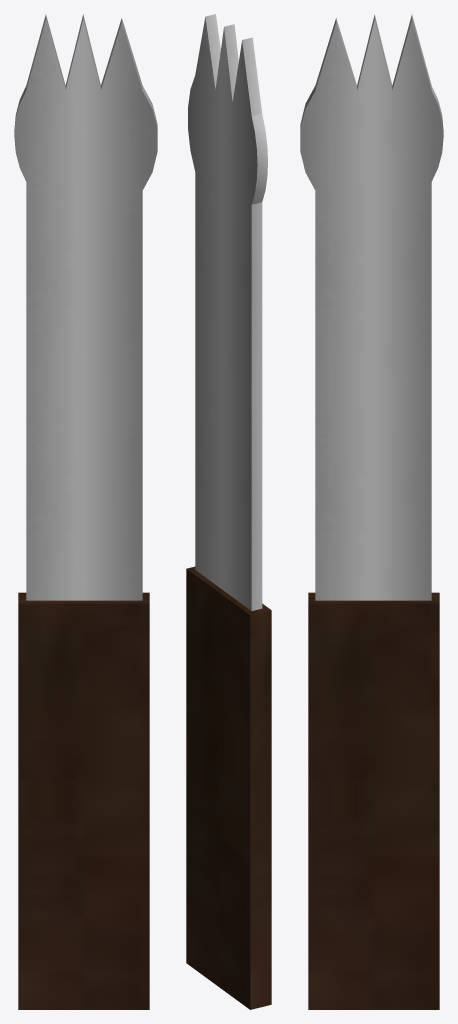
The model's file is Fork.dae.
3 renders of one model, left to right at view 1: azimuth 90°, elevation 25°; view 2: azimuth 210°, elevation 25°; view 3: azimuth 270°, elevation 25°, orthographic. The views are drawn at different scales.
Visible parts, largest first — view 1: SketchUp_001, SketchUp; view 2: SketchUp_001, SketchUp; view 3: SketchUp_001, SketchUp.
Boxes of the visible parts, bbox=[...] form: SketchUp_001: bbox=[14, 14, 157, 600]; SketchUp: bbox=[18, 592, 149, 1009]; SketchUp_001: bbox=[188, 14, 267, 610]; SketchUp: bbox=[186, 566, 271, 1009]; SketchUp_001: bbox=[300, 14, 443, 600]; SketchUp: bbox=[308, 592, 439, 1009].
Bounding box in the file's own units: 0.0127 × 0.0721 × 0.5486.
2 materials, 2 textured.
